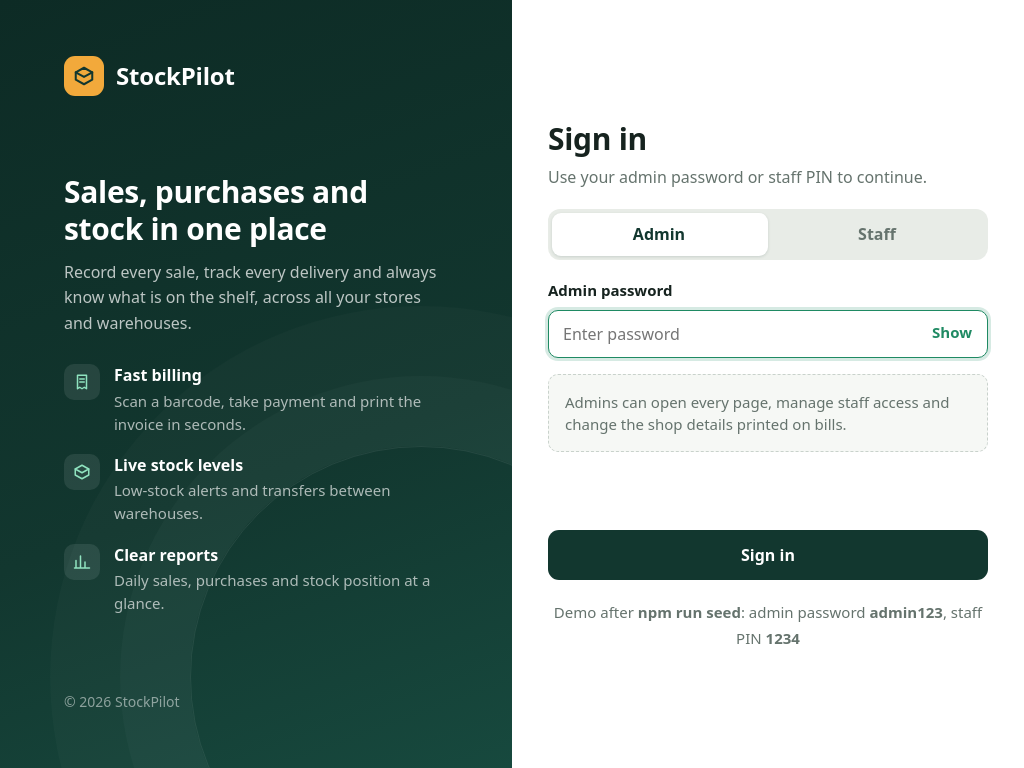
Test: sidebar can be collapsed, resized by preset and reset
Type "admin123" into the password field with placeholder "Enter password" at (768, 334), box [548, 310, 988, 358]
Then press Enter
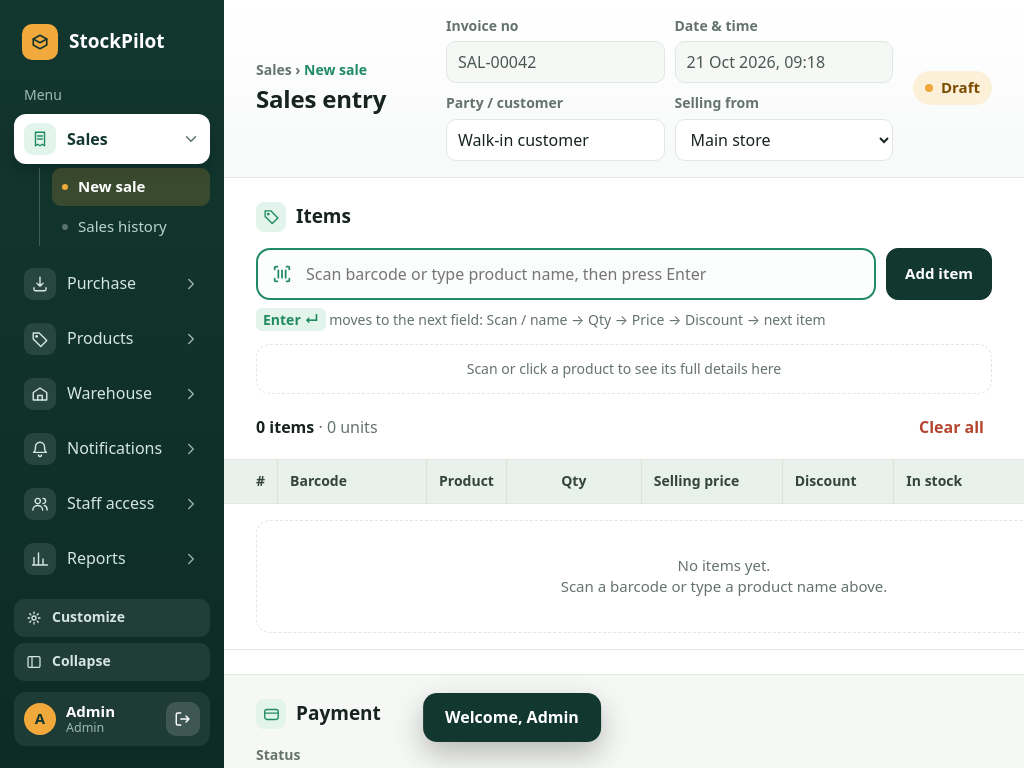
Expected: the heading "Sales entry" is shown, [256, 82, 386, 115]
Click the button titled "Customize menu bar" at (112, 618), box [14, 599, 210, 637]
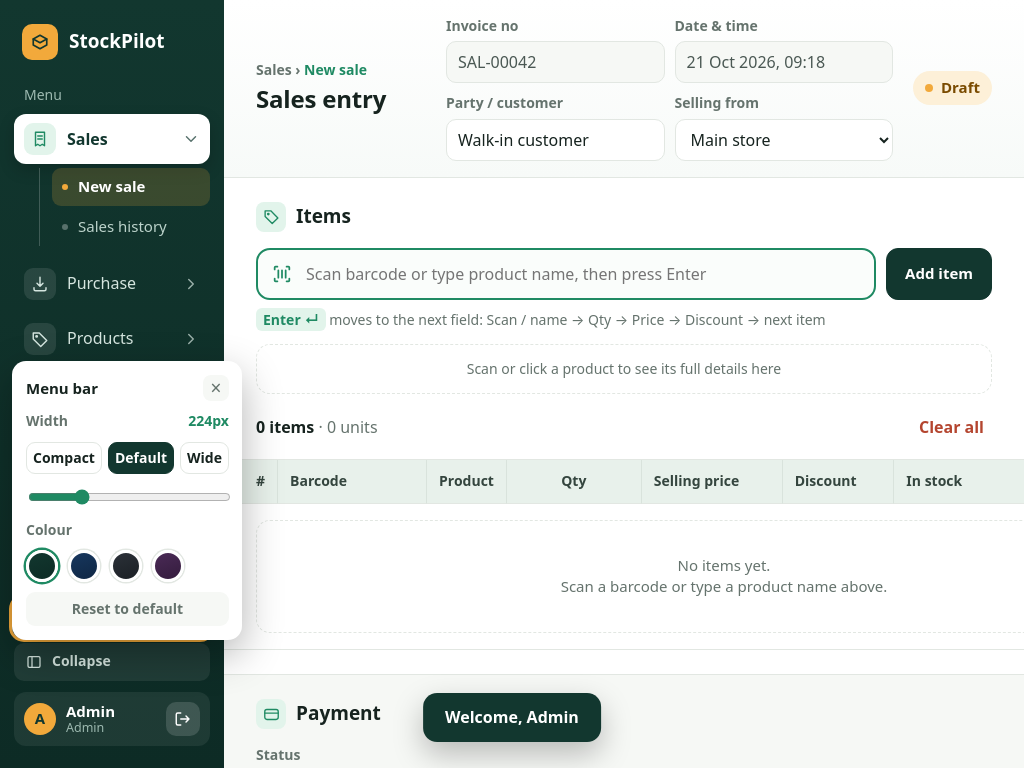
Click the button "Wide" at (204, 458), box [180, 442, 229, 474]
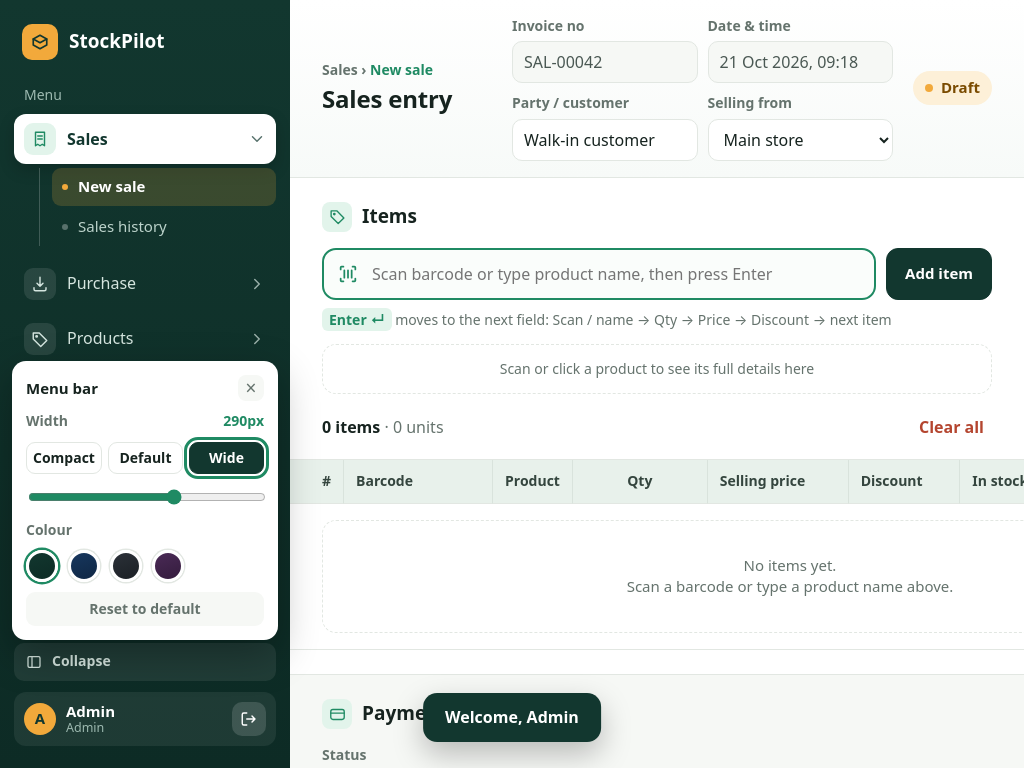
Expected: the text "290px" is shown, [223, 411, 264, 432]
Click the button titled "Collapse menu bar" at (81, 661), box [14, 643, 276, 681]
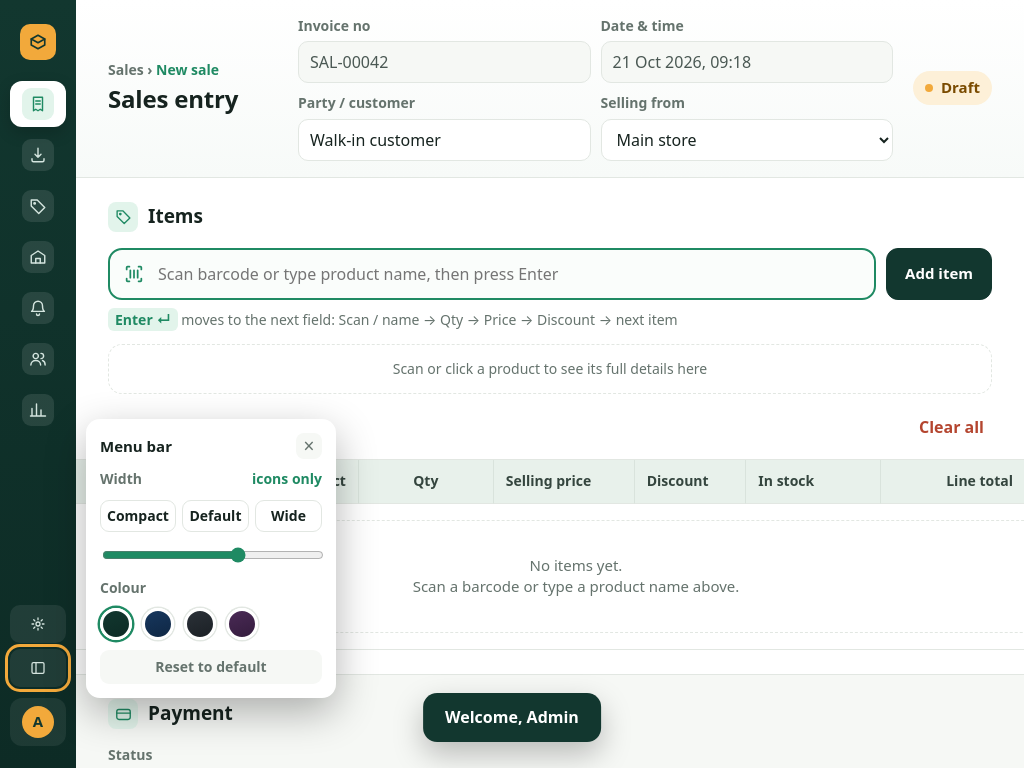
Expected: the navigation bar named "Main menu" has class "collapsed", [0, 0, 76, 767]
Click the button "Reset to default" at (211, 667), box [100, 650, 322, 684]
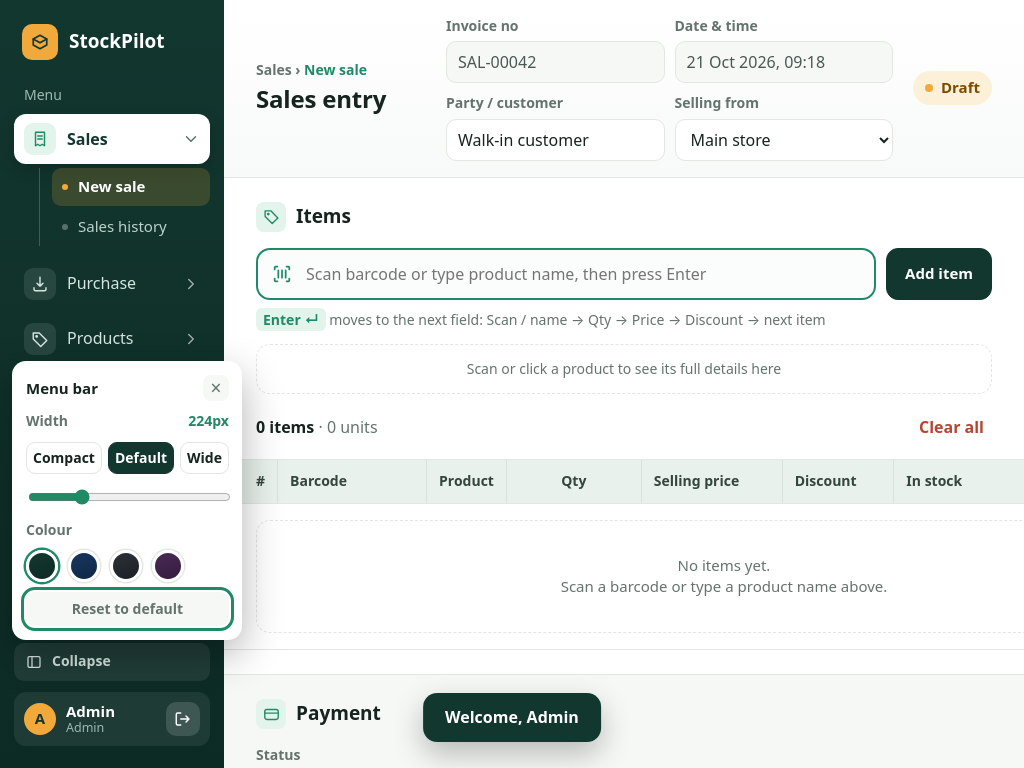
Expected: the text "224px" is shown, [188, 411, 229, 432]
